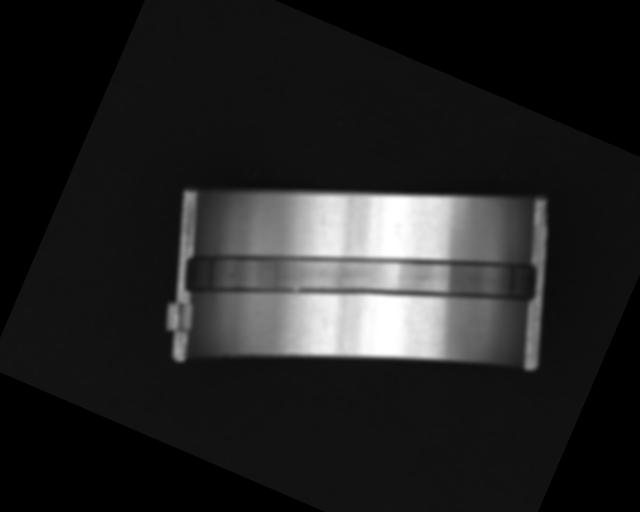gap: (176, 140, 545, 416)
nick: (308, 202, 337, 238)
